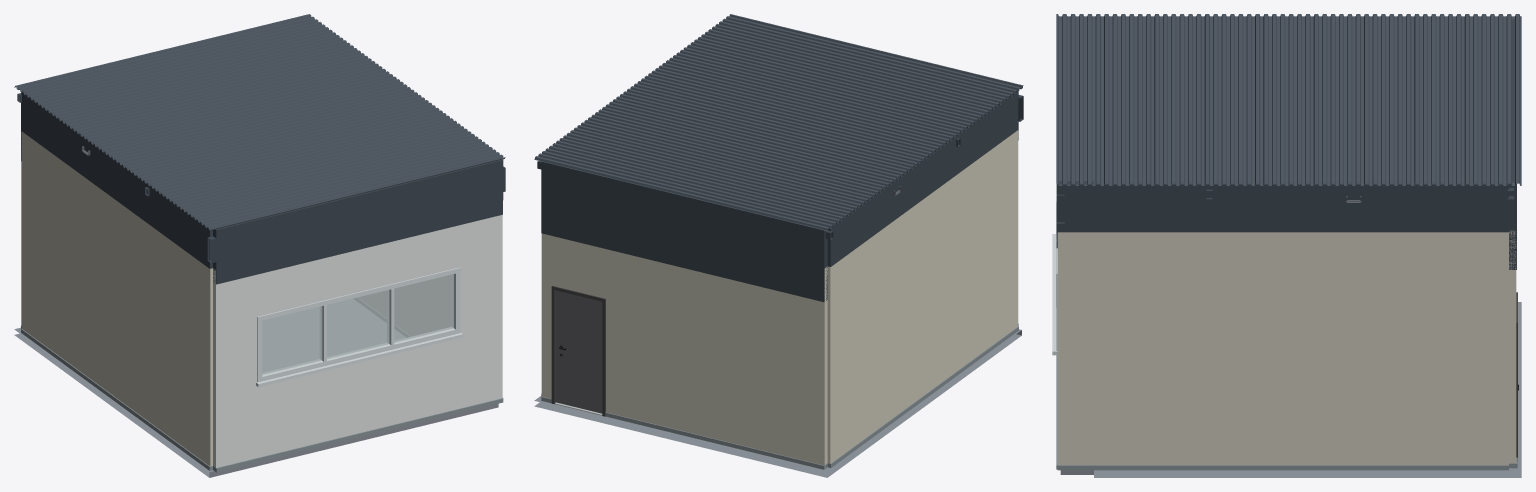
The model's file is room.meshopt.glb.
The picture shows the model from 3 angles, left to right: view 1: azimuth 30°, elevation 25°; view 2: azimuth 150°, elevation 25°; view 3: azimuth 270°, elevation 25°; orthographic projection. The views are drawn at different scales.
Visible parts, largest first — view 1: Ceiling_Corrugated_Deck, Wall_16_Clean, Wall_17_Clean, Wall_16_Top_Steel_Beam, Floor_Continuous_00, Wall_17_Top_Steel_Beam, Window_06_Pane_2, Window_06_Pane_1, Window_06_Pane_3, Wall_26_Clean, Window_06_Frame_Horizontal_-1, Wall_16_Skirting_0 (+4 smaller); view 2: Ceiling_Corrugated_Deck, Wall_21_Clean, Wall_17_Clean, Wall_21_Top_Steel_Beam, Wall_17_Top_Steel_Beam, Door_03_CLOSED_Leaf, Floor_Continuous_00, Wall_21_Skirting_0, Wall_17_Skirting_0, Door_03_CLOSED_Jamb_L; view 3: Wall_26_Clean, Ceiling_Corrugated_Deck, Wall_26_Top_Steel_Beam, Wall_29_Clean, Floor_Continuous_00, Wall_26_Skirting_0, Wall_29_Top_Steel_Beam, Wall_21_Clean, Wall_21_Top_Steel_Beam, Window_06_Sill.
Part boxes in pixels (x1,y1,x2,y2): Ceiling_Corrugated_Deck: (14,14,505,230); Wall_16_Clean: (213,215,502,467); Wall_17_Clean: (21,131,212,466); Wall_16_Top_Steel_Beam: (213,160,502,284); Floor_Continuous_00: (14,299,498,477); Wall_17_Top_Steel_Beam: (21,92,212,268); Window_06_Pane_2: (327,290,389,359); Window_06_Pane_1: (262,306,322,374); Window_06_Pane_3: (394,274,453,342); Wall_26_Clean: (359,275,451,335); Window_06_Frame_Horizontal_-1: (262,327,455,381); Wall_16_Skirting_0: (213,398,503,472); Ceiling_Corrugated_Deck: (534,14,1023,231); Wall_21_Clean: (541,233,827,465); Wall_17_Clean: (827,130,1017,463); Wall_21_Top_Steel_Beam: (541,161,827,301); Wall_17_Top_Steel_Beam: (827,91,1018,266); Door_03_CLOSED_Leaf: (556,290,602,413); Floor_Continuous_00: (534,329,1021,477); Wall_21_Skirting_0: (605,412,827,469); Wall_17_Skirting_0: (827,326,1018,467); Door_03_CLOSED_Jamb_L: (551,286,555,404); Wall_26_Clean: (1094,232,1508,465); Ceiling_Corrugated_Deck: (1056,14,1521,185); Wall_26_Top_Steel_Beam: (1094,183,1508,232); Wall_29_Clean: (1057,232,1093,465); Floor_Continuous_00: (1060,302,1521,477); Wall_26_Skirting_0: (1094,465,1508,470); Wall_29_Top_Steel_Beam: (1057,181,1093,232); Wall_21_Clean: (1509,230,1516,463); Wall_21_Top_Steel_Beam: (1509,19,1516,269); Window_06_Sill: (1052,234,1057,355).
Bounding box in the file's own units: 5.5 × 4.46 × 6.44.
